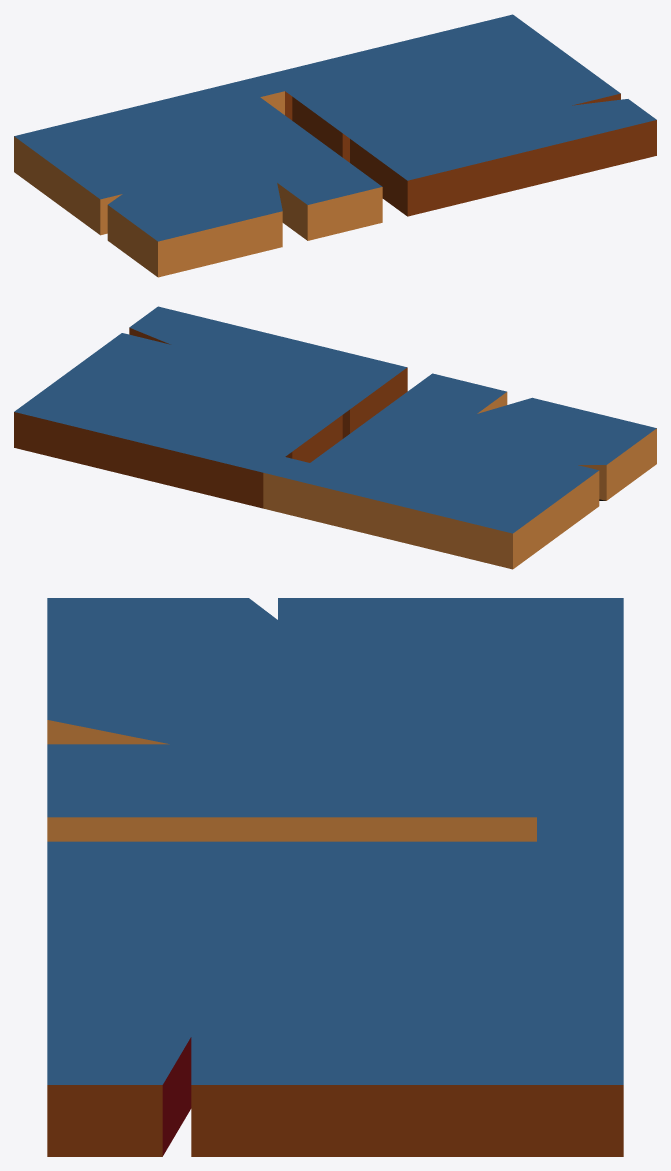
The model's file is COMEONWORK.fbx.
The picture shows the model from 3 angles, top to bottom: view 1: azimuth 30°, elevation 25°; view 2: azimuth 150°, elevation 25°; view 3: azimuth 270°, elevation 25°; orthographic projection. The views are drawn at different scales.
Parts seen in each view (by area): view 1: Plane; view 2: Plane; view 3: Plane.
Boxes of the visible parts, x1,y1,x2,y2 form: Plane: (14,14,656,277); Plane: (14,306,656,569); Plane: (47,598,623,1156).
Bounding box in the file's own units: 7273 × 500 × 3636.
